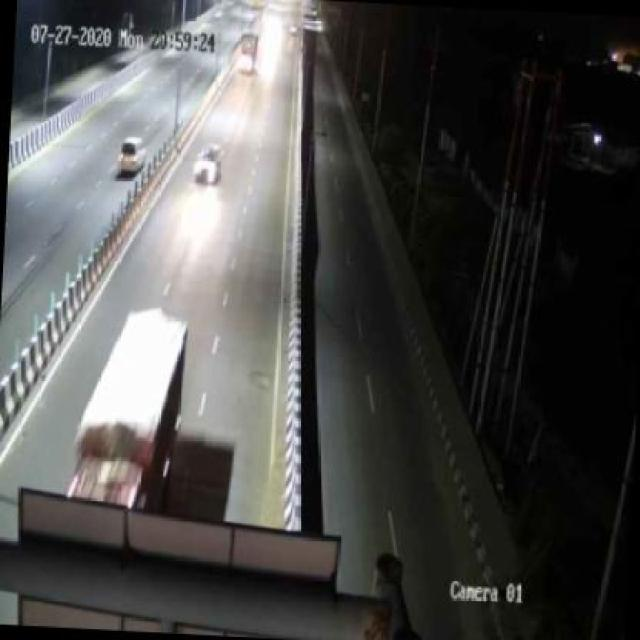car: (189, 138, 225, 188)
